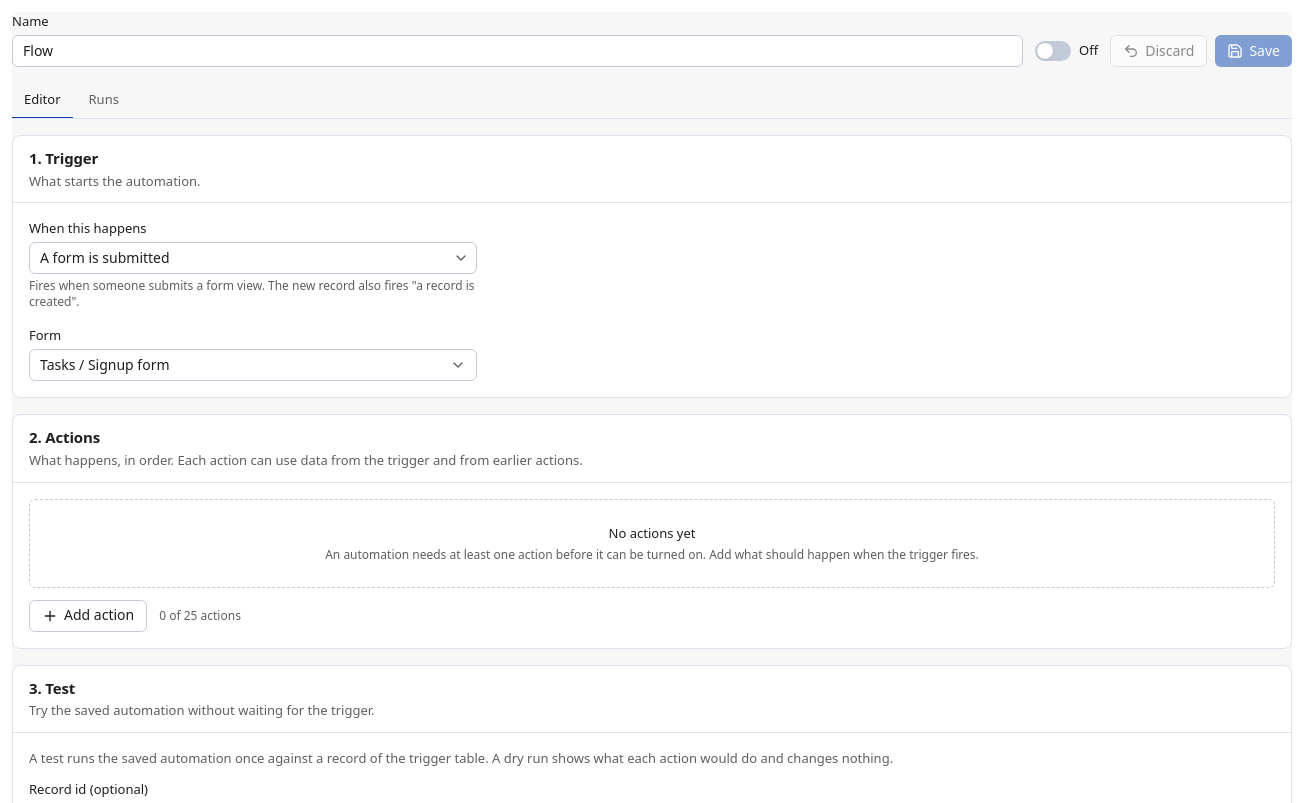
triggers round-trip into the update payload › form_submitted: a form view of any table
Expected: the button "Save" is shown, [1215,35,1292,67]
Click the dropdown labelled "form".
click(105, 364)  # box [29,349,477,381]
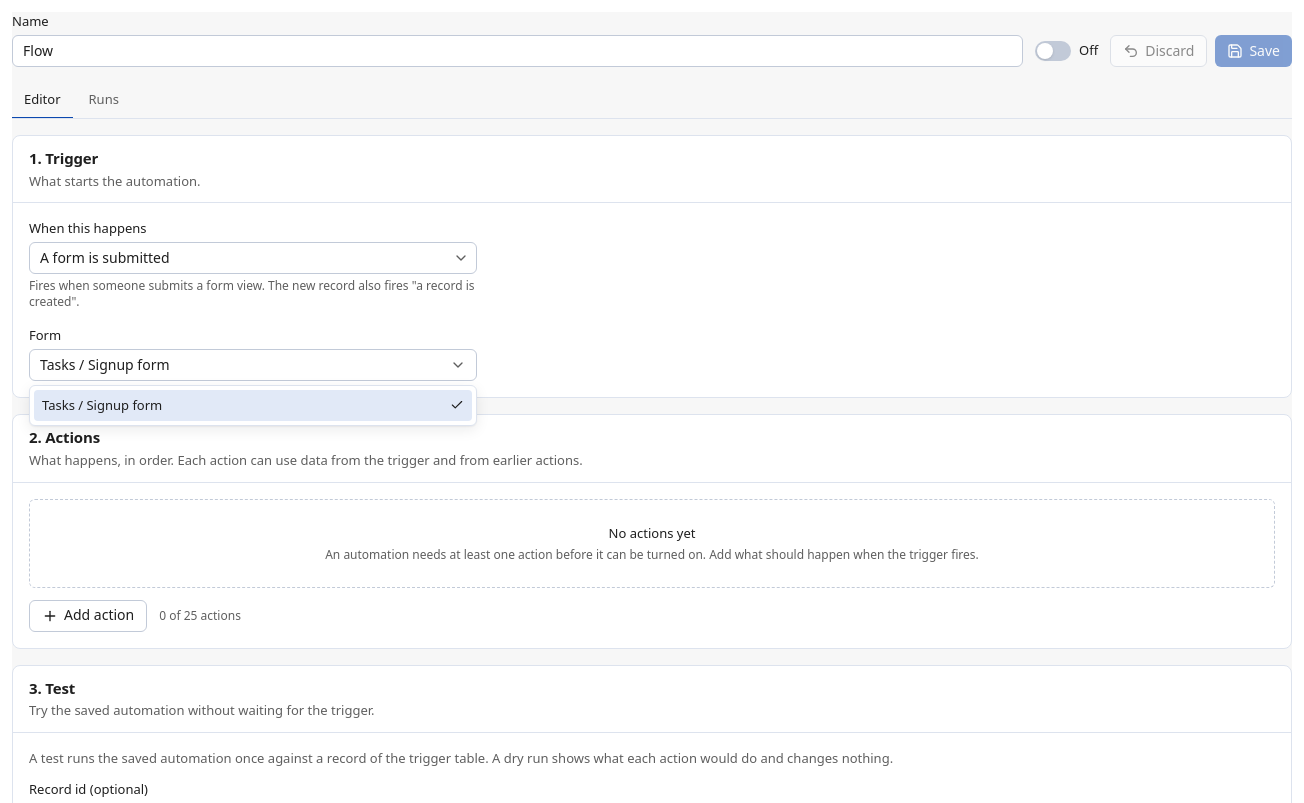
Now the options read "Tasks / Signup form", in this order, box [34,390,472,421]
